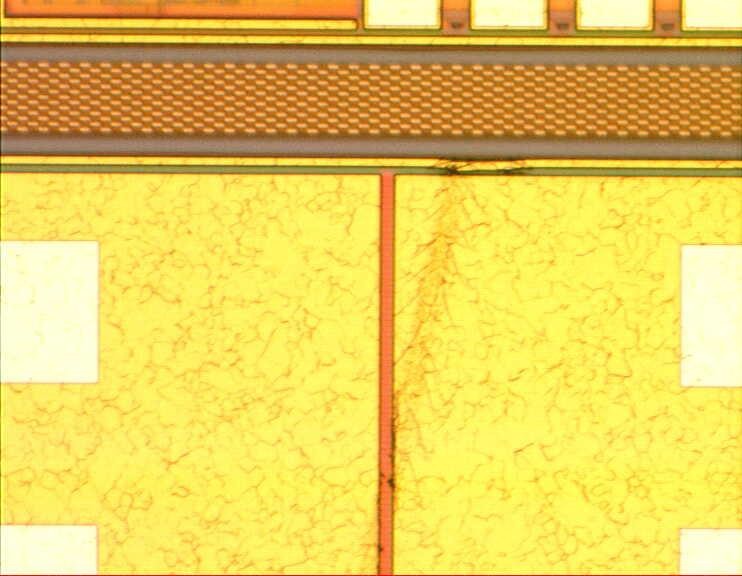SCRATCH: (342, 135, 484, 576)
